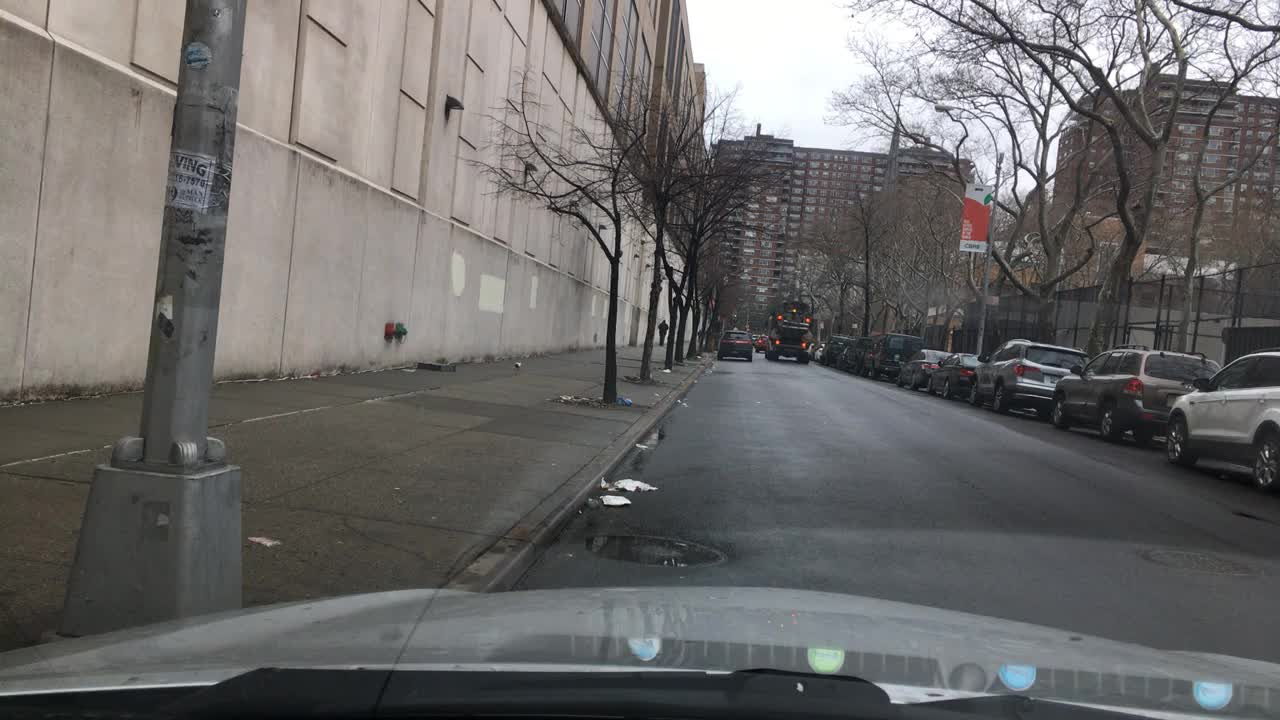car: (1161, 351, 1279, 491), (1049, 349, 1227, 438), (965, 337, 1095, 414), (863, 331, 929, 381), (925, 352, 991, 397), (892, 346, 956, 390), (837, 331, 872, 375), (716, 327, 754, 361), (821, 335, 846, 370), (751, 331, 770, 352), (808, 339, 824, 361)
person: (656, 317, 669, 349)
truck: (765, 303, 815, 364)
